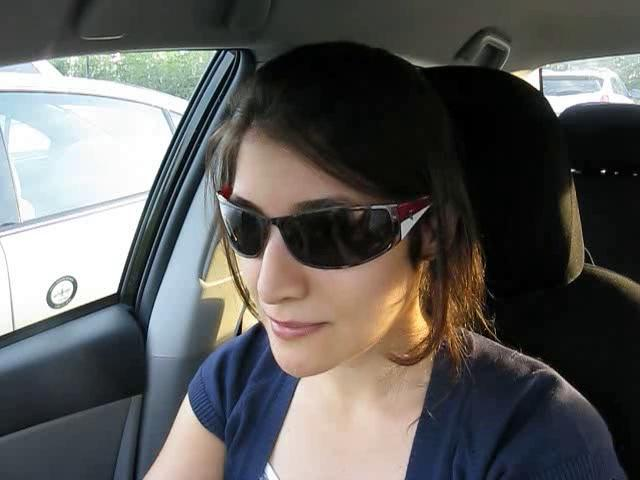no_yawn: (254, 301, 341, 349)
